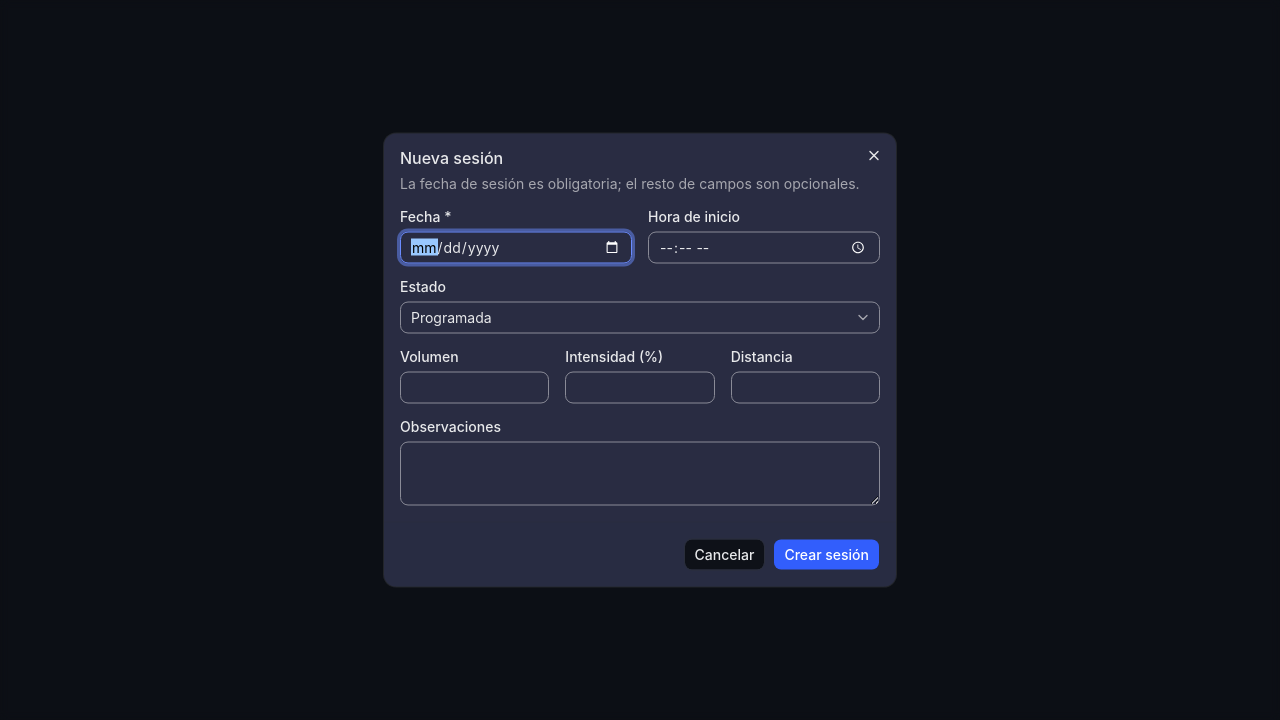
Scenario: SessionFormDialog — creación anidada (T4) › nunca crea sesiones sueltas: sin cycleId no envía nada (T4)
Type "2026-01-06" into the date field with test id "session-form-date".
click(516, 248); type("2026-01-06")  # box left=400, top=232, right=632, bottom=264
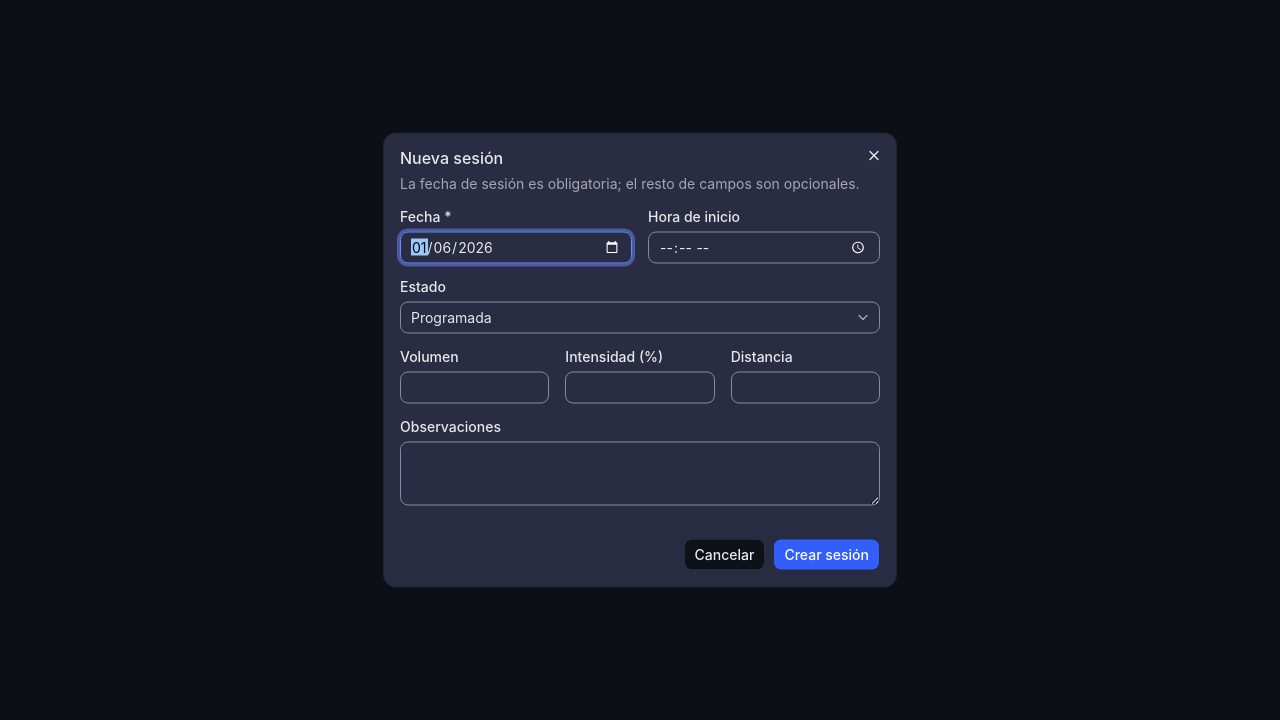
Click the button with test id "session-form-submit".
click(827, 554)  # box left=773, top=538, right=880, bottom=570
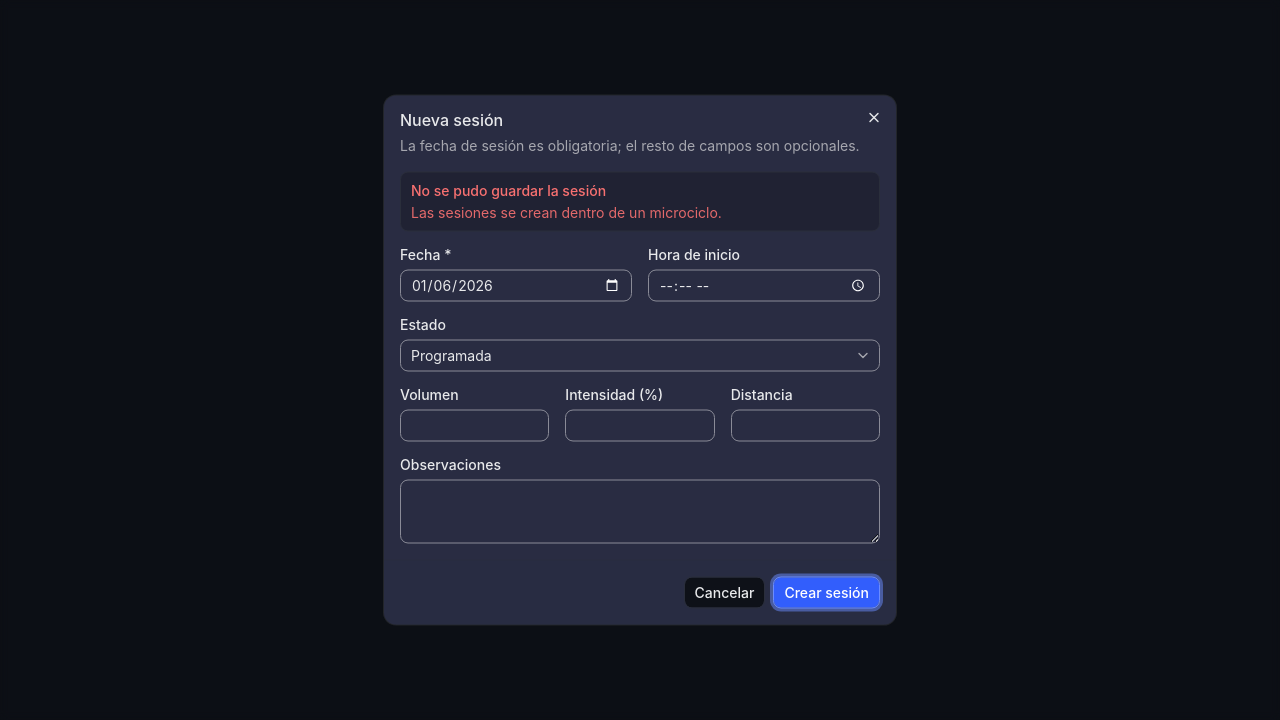
Now the text "Las sesiones se crean dentro de un microciclo." is shown, box left=411, top=204, right=722, bottom=220
